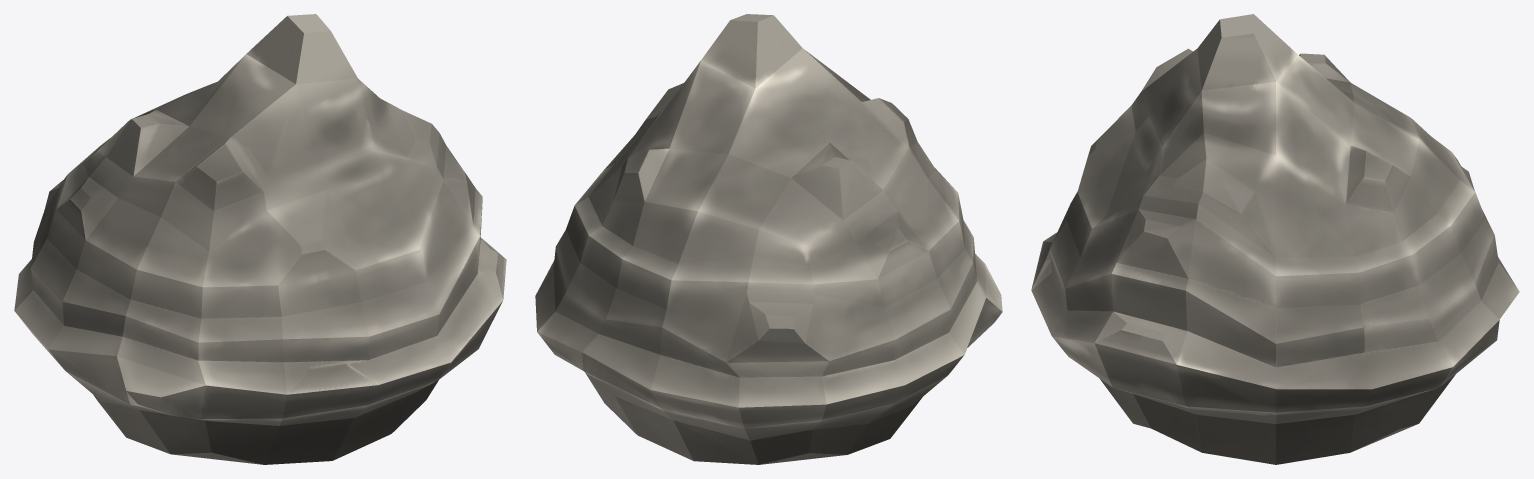
File: crystal_14.glb
3 views of the same model, side by side, from view 1: azimuth 30°, elevation 25°; view 2: azimuth 150°, elevation 25°; view 3: azimuth 270°, elevation 25° (orthographic). The views are drawn at different scales.
Parts seen in each view (by area): view 1: crystal_14; view 2: crystal_14; view 3: crystal_14.
Part boxes in pixels (x1,y1,x2,y2): crystal_14: (14, 14, 506, 464); crystal_14: (535, 14, 1002, 464); crystal_14: (1031, 14, 1519, 464).
Size of the model in its own units: 1.25 by 1.13 by 1.24.
1 material, 1 textured.
